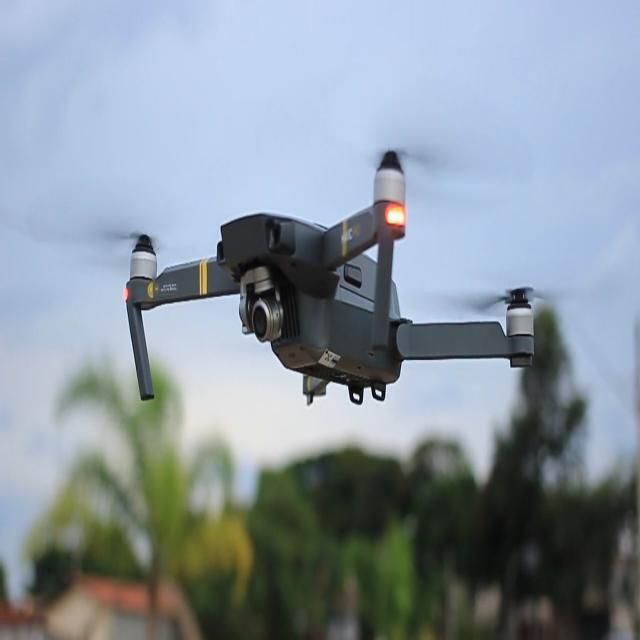Drone: (124, 156, 534, 409)
